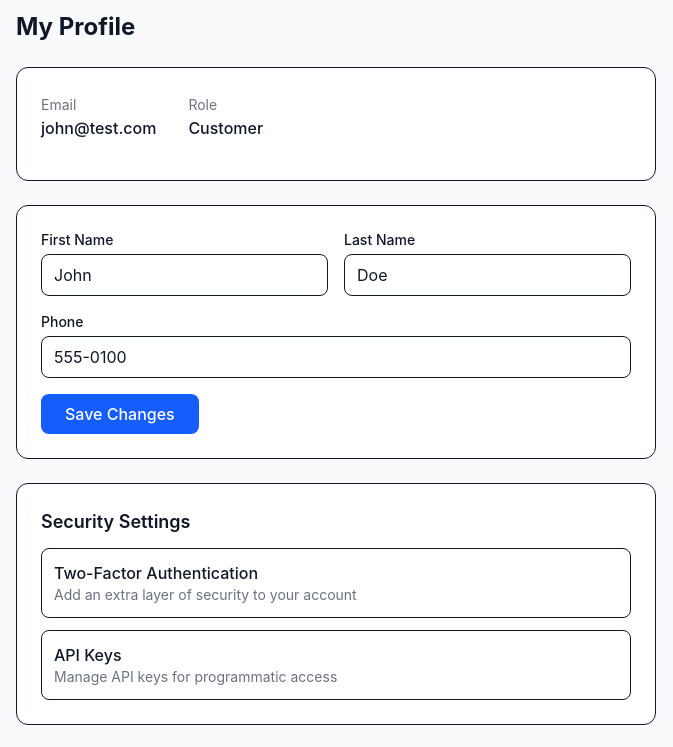
it: ProfilePage › should show error on failure
Click the button "Save Changes" at (120, 414), box [41,394,199,434]
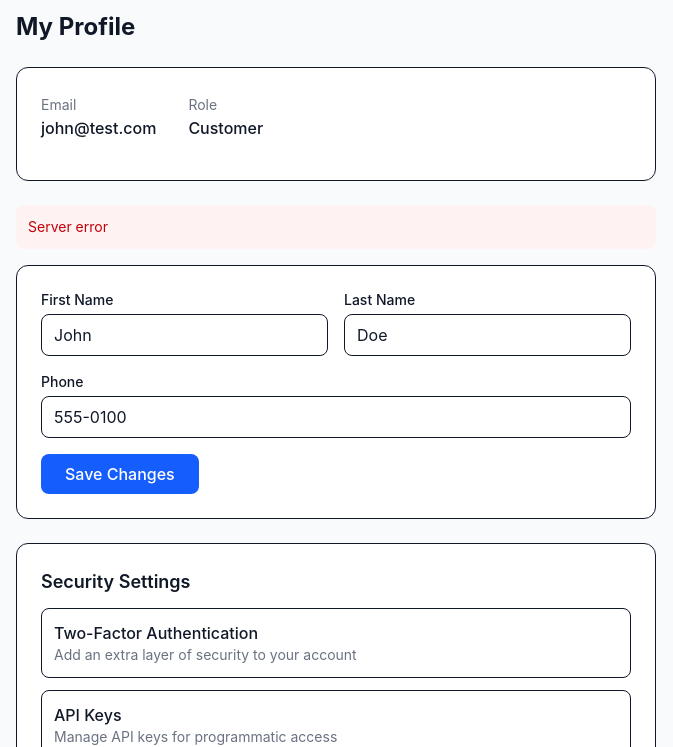
expect the message reads "Server error": met, box [28,218,108,235]
